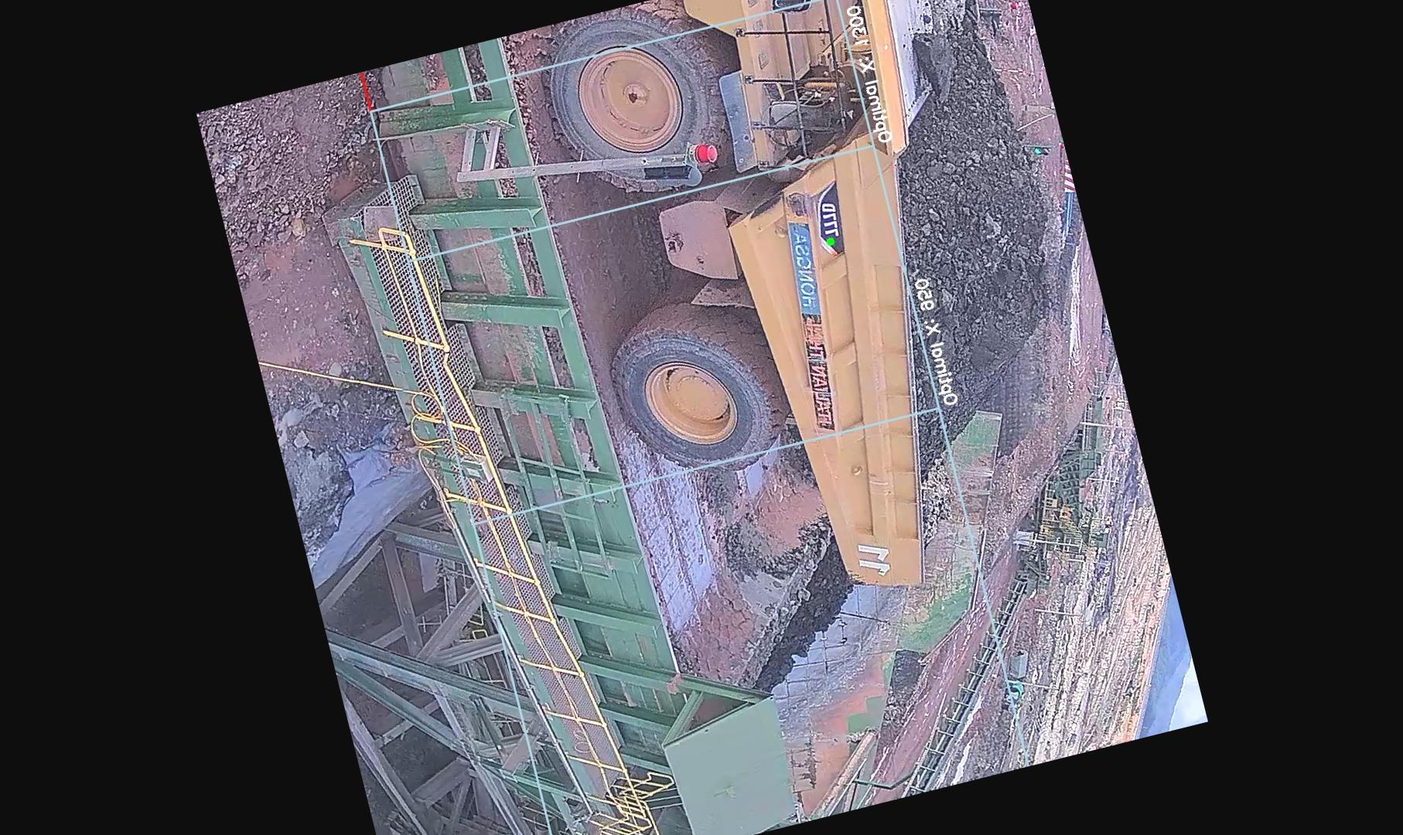company: (758, 209, 861, 437)
full_load: (846, 68, 1091, 406)
mining_truck: (525, 0, 1146, 664)
tail_number: (841, 527, 908, 598)
truck_size: (804, 174, 859, 269)
